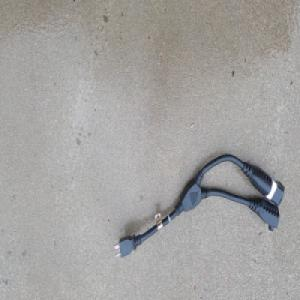Wire: (112, 150, 285, 258)
